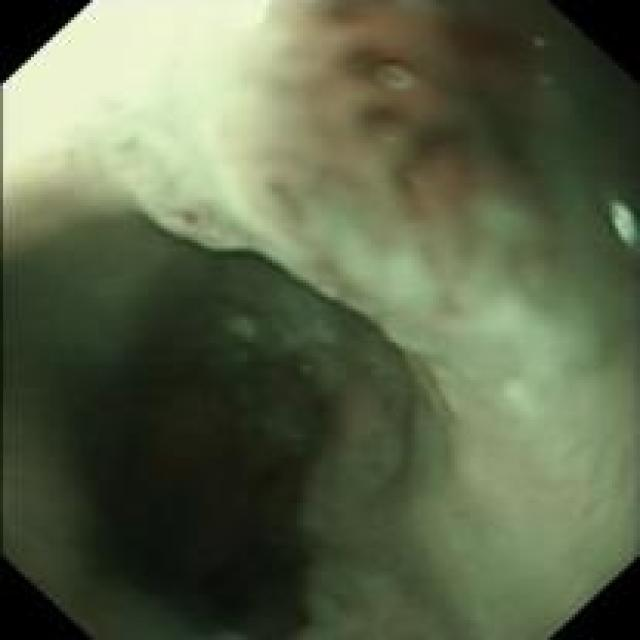blur: (4, 2, 633, 335)
contrast: (60, 332, 335, 635)
saturation: (7, 5, 270, 162)
